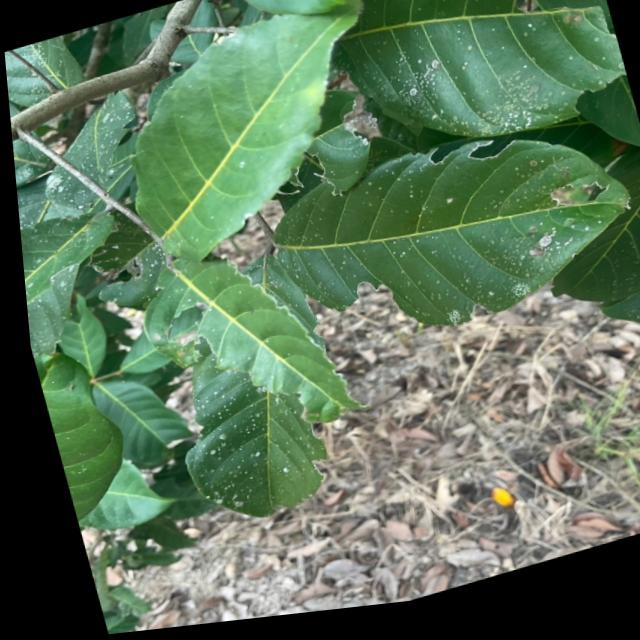Algal Leaf Spot: (252, 117, 630, 354), (328, 0, 633, 187), (154, 323, 331, 541), (9, 120, 165, 348)
